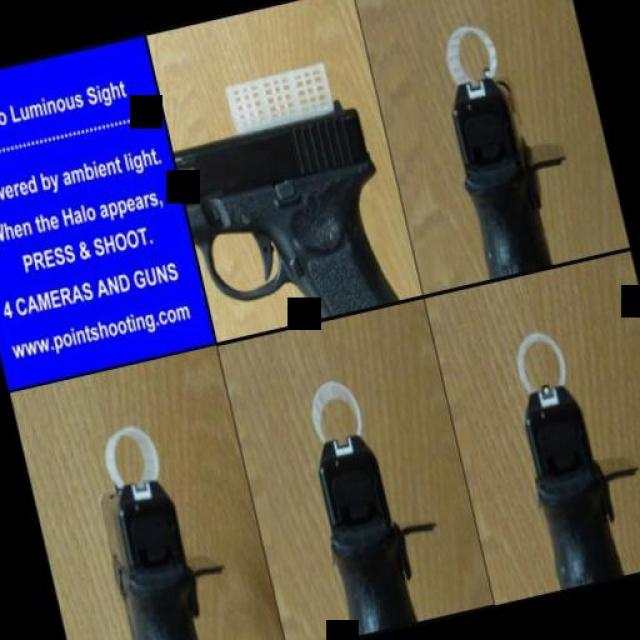gun: (171, 106, 404, 339), (305, 412, 455, 632), (439, 55, 585, 279), (507, 361, 640, 588), (87, 457, 233, 640)
